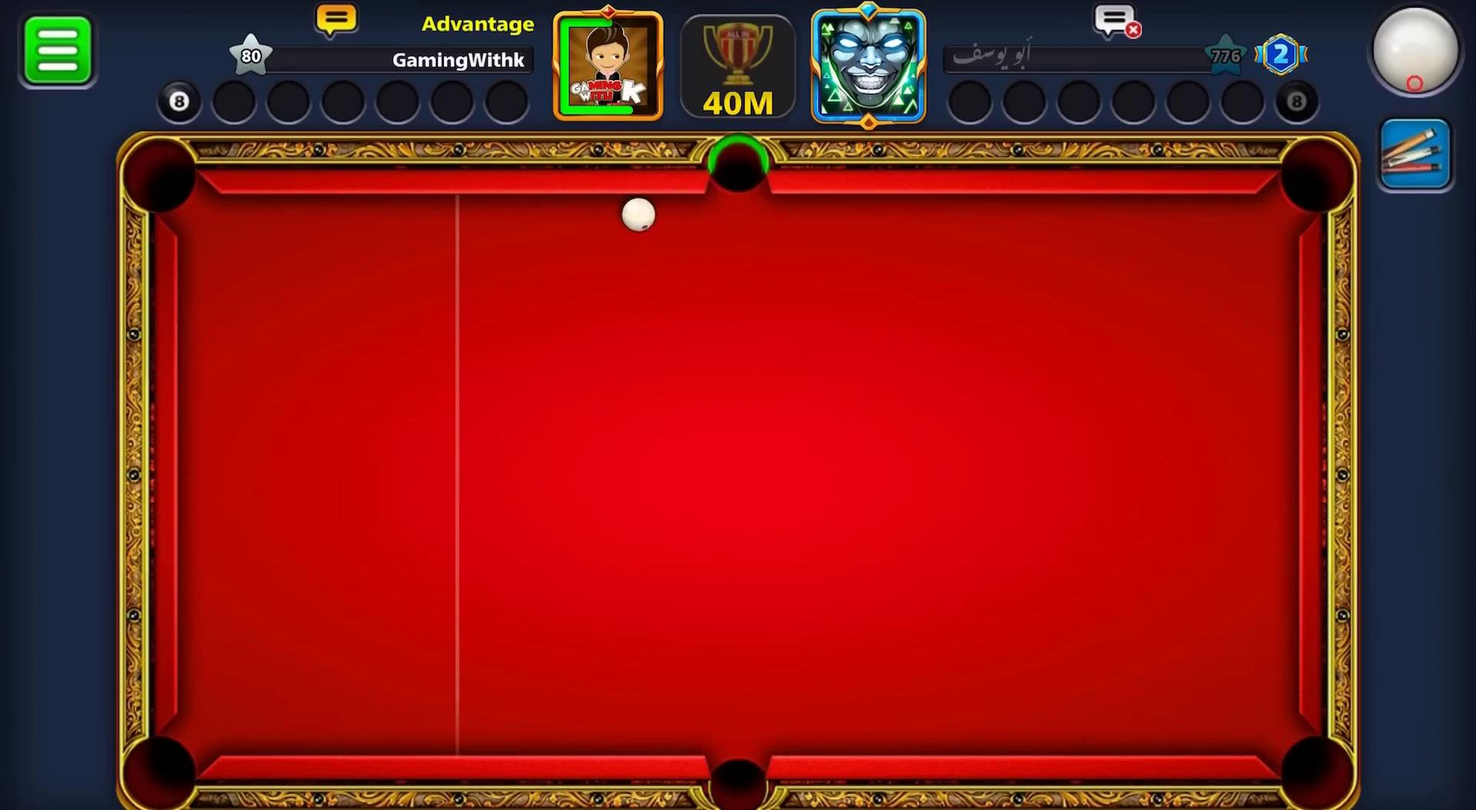Hole: (1267, 122, 1363, 232), (700, 128, 775, 210), (122, 135, 199, 212), (1278, 734, 1355, 809), (122, 733, 198, 808), (705, 755, 770, 809)
Play_Area: (178, 192, 1296, 755)
Spin: (1361, 0, 1475, 111)
White: (610, 195, 660, 238)
